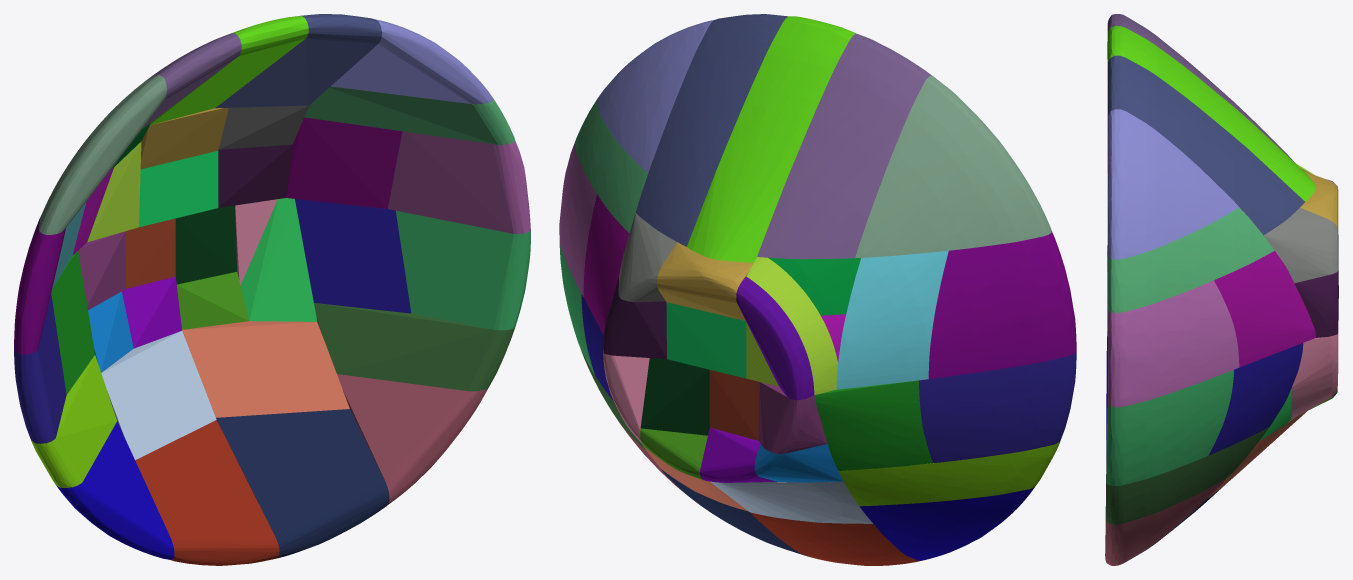
File: coacd_collision.obj
3 views of the same model, side by side, from view 1: azimuth 30°, elevation 25°; view 2: azimuth 150°, elevation 25°; view 3: azimuth 270°, elevation 25° (orthographic). The views are drawn at different scales.
Visible parts, largest first — view 1: geometry_21, geometry_15, geometry_9, geometry_10, geometry_19, geometry_7, geometry_20, geometry_13, geometry_6, geometry_14, geometry_16, geometry_3 (+24 smaller); view 2: geometry_0, geometry_1, geometry_17, geometry_11, geometry_16, geometry_18, geometry_2, geometry_8, geometry_4, geometry_12, geometry_5, geometry_34 (+22 smaller); view 3: geometry_12, geometry_7, geometry_16, geometry_10, geometry_3, geometry_14, geometry_17, geometry_19, geometry_20, geometry_35, geometry_13, geometry_24 (+5 smaller).
Part boxes in pixels (x1,y1,x2,y2): geometry_21: (216,409,389,558); geometry_15: (135,420,279,565); geometry_9: (182,321,349,417); geometry_10: (396,210,530,330); geometry_19: (314,303,515,391); geometry_7: (388,131,530,233); geometry_20: (295,199,411,313); geometry_13: (337,374,488,504); geometry_6: (101,331,216,459); geometry_14: (286,117,402,208); geometry_16: (215,14,381,108); geometry_3: (304,86,515,144); geometry_0: (855,75,1051,257); geometry_1: (757,34,931,259); geometry_17: (687,16,856,262); geometry_11: (928,231,1076,378); geometry_16: (635,14,787,246); geometry_18: (919,351,1076,462); geometry_2: (836,250,948,389); geometry_8: (815,380,932,470); geometry_4: (838,441,1060,506); geometry_12: (597,20,713,172); geometry_5: (859,487,1034,560); geometry_34: (746,257,837,394); geometry_12: (1107,109,1238,259); geometry_7: (1107,280,1239,407); geometry_16: (1107,55,1304,235); geometry_10: (1106,370,1233,486); geometry_3: (1107,207,1274,312); geometry_14: (1214,250,1315,367); geometry_17: (1107,26,1315,201); geometry_19: (1106,427,1269,524); geometry_20: (1208,343,1303,455); geometry_35: (1263,207,1338,283); geometry_13: (1105,478,1226,565); geometry_24: (1291,333,1338,418).
Size of the model in its own units: 138 by 138 by 58.22.
